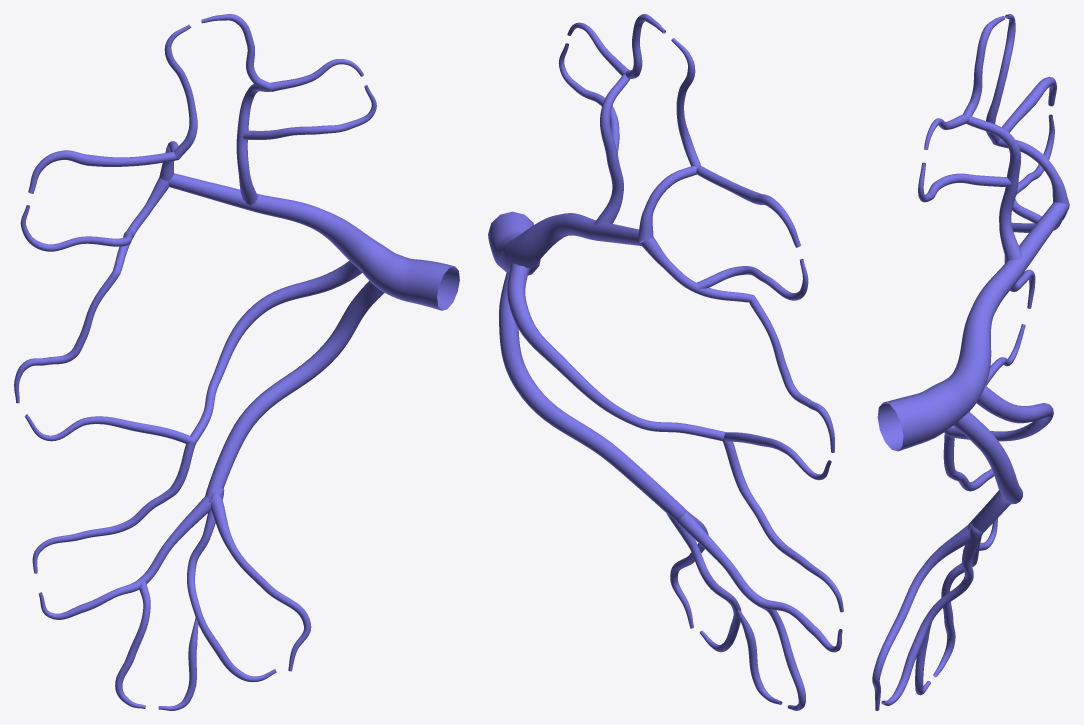
The model's file is Intrarenal_veins_of_right_kidney_BezierCurve.438.glb.
The picture shows the model from 3 angles, left to right: view 1: azimuth 30°, elevation 25°; view 2: azimuth 150°, elevation 25°; view 3: azimuth 270°, elevation 25°; orthographic projection. The views are drawn at different scales.
Visible parts, largest first — view 1: Intrarenal_veins_of_right_kidney_BezierCurve.438; view 2: Intrarenal_veins_of_right_kidney_BezierCurve.438; view 3: Intrarenal_veins_of_right_kidney_BezierCurve.438.
Part boxes in pixels (x1,y1,x2,y2): Intrarenal_veins_of_right_kidney_BezierCurve.438: (14,14,459,710); Intrarenal_veins_of_right_kidney_BezierCurve.438: (488,14,843,710); Intrarenal_veins_of_right_kidney_BezierCurve.438: (872,14,1069,710).
Bounding box in the file's own units: 0.0481 × 0.0775 × 0.0194.
